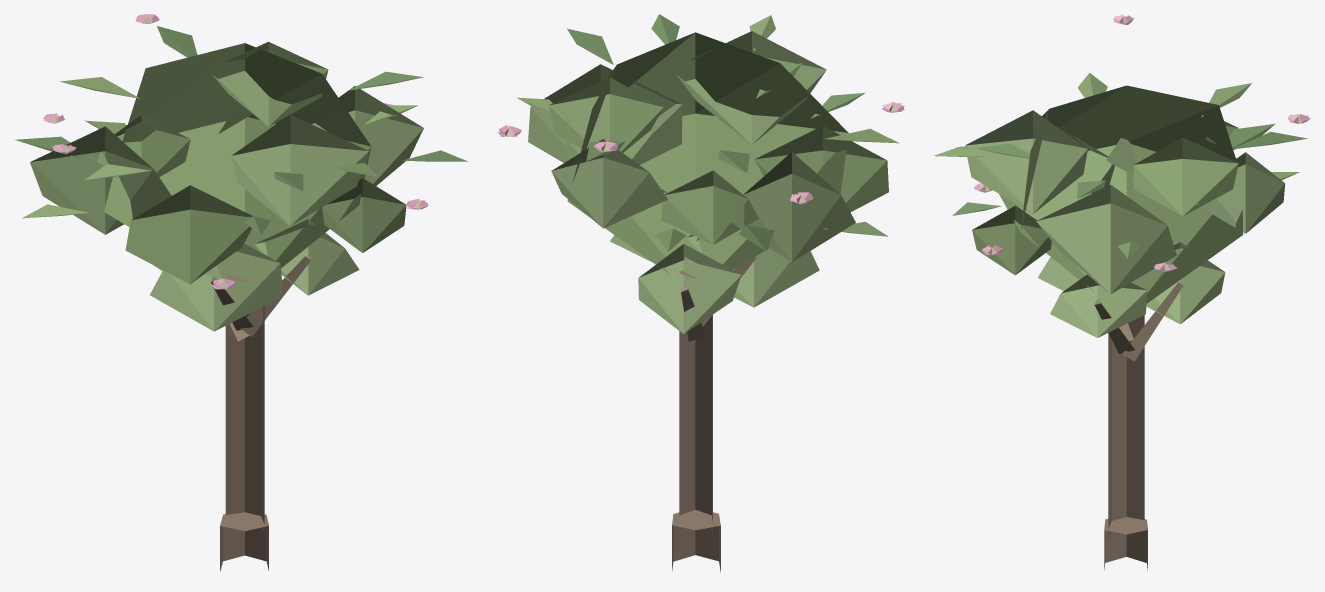
The model's file is shu.paotong__summer.glb.
3 renders of one model, left to right at view 1: azimuth 30°, elevation 25°; view 2: azimuth 150°, elevation 25°; view 3: azimuth 270°, elevation 25°, orthographic. The views are drawn at different scales.
Parts seen in each view (by area): view 1: shu.paotong__summer; view 2: shu.paotong__summer; view 3: shu.paotong__summer.
Boxes of the visible parts, box(x1,y1,x2,y2) form: shu.paotong__summer: box(15, 14, 467, 571); shu.paotong__summer: box(497, 14, 904, 572); shu.paotong__summer: box(934, 14, 1310, 570).
Bounding box in the file's own units: 12.98 × 16.56 × 11.97.
